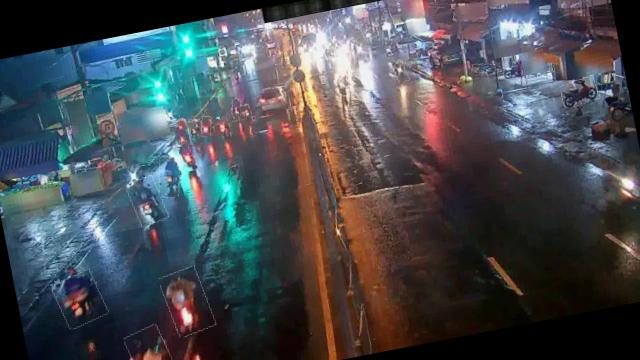Bike: (160, 265, 215, 338), (53, 270, 109, 330), (126, 175, 166, 226), (126, 323, 181, 360), (154, 154, 185, 200), (559, 76, 599, 108), (169, 119, 192, 148), (178, 142, 196, 172), (471, 60, 497, 76), (235, 103, 253, 126), (392, 58, 408, 83), (334, 76, 352, 98), (198, 116, 214, 138), (188, 118, 204, 138), (218, 116, 232, 138), (230, 97, 243, 118)
Car: (254, 85, 292, 118)
